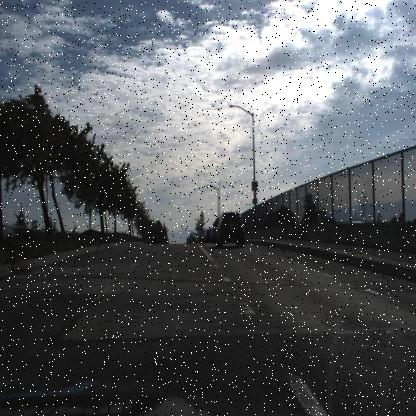car: (215, 212, 245, 249), (210, 216, 220, 242)
